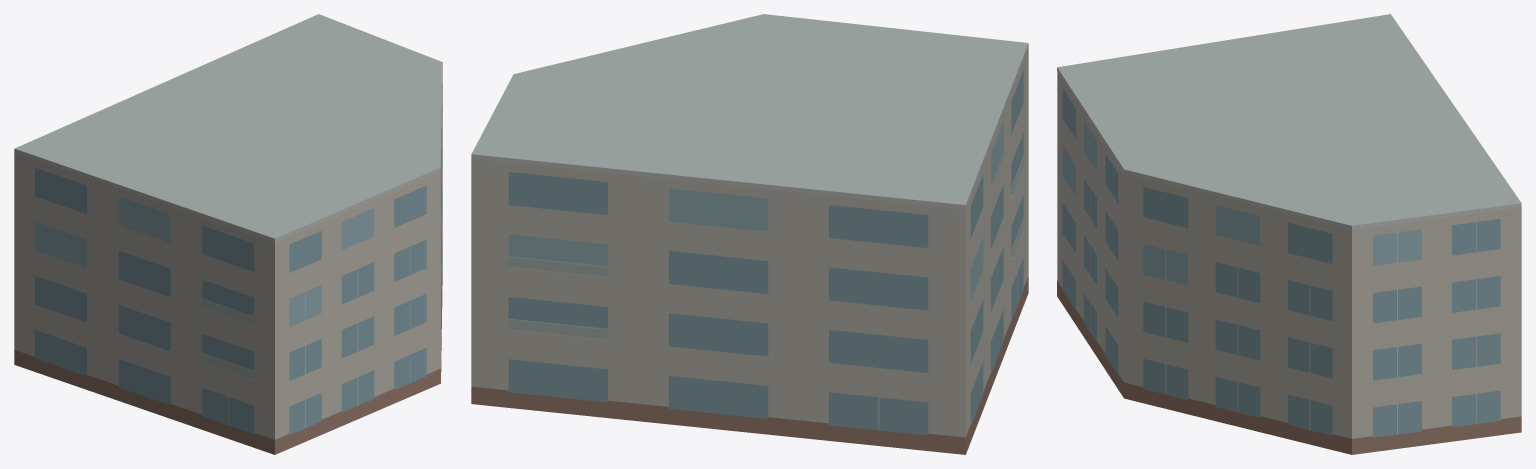
Rendered from survey-upis-32958912.glb.
The picture shows the model from 3 angles, left to right: view 1: azimuth 30°, elevation 25°; view 2: azimuth 150°, elevation 25°; view 3: azimuth 270°, elevation 25°; orthographic projection. The views are drawn at different scales.
Parts seen in each view (by area): view 1: survey-upis-32958912.tmp; view 2: survey-upis-32958912.tmp; view 3: survey-upis-32958912.tmp.
Part boxes in pixels (x1=…): survey-upis-32958912.tmp: x1=14, y1=14, x2=442, y2=454; survey-upis-32958912.tmp: x1=471, y1=14, x2=1028, y2=454; survey-upis-32958912.tmp: x1=1057, y1=14, x2=1521, y2=454.
Bounding box in the file's own units: 27.18 × 13.7 × 25.19.
